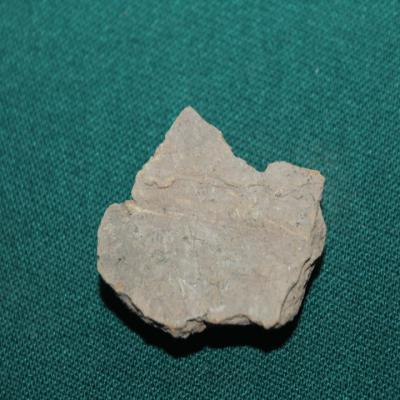archeology: (96, 108, 328, 343)
